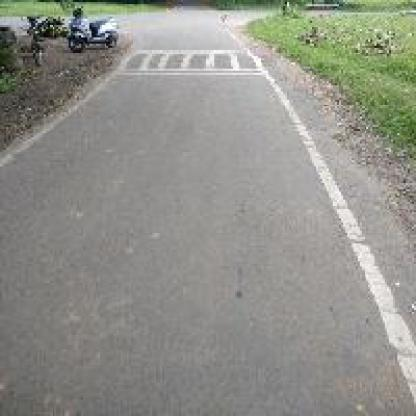Speed Bump: (112, 44, 270, 77)
